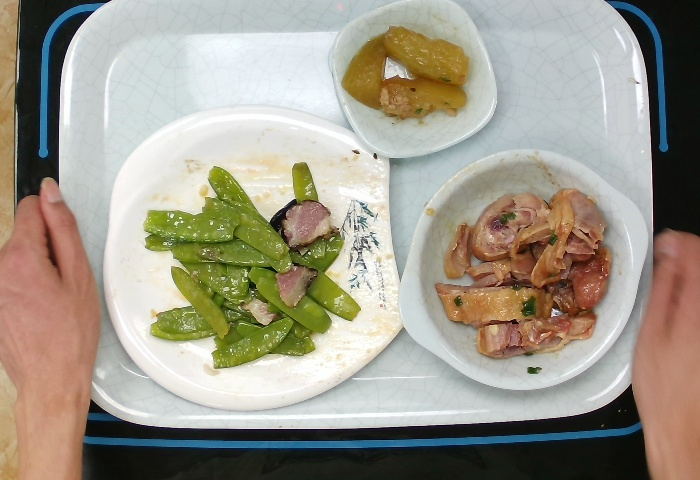JYsf-Mian_Pan: (99, 99, 409, 413)
JYsf-Shuang_Er_Wan: (386, 144, 650, 395)
JYsf-Si_Fang_Die: (321, 1, 504, 181)
